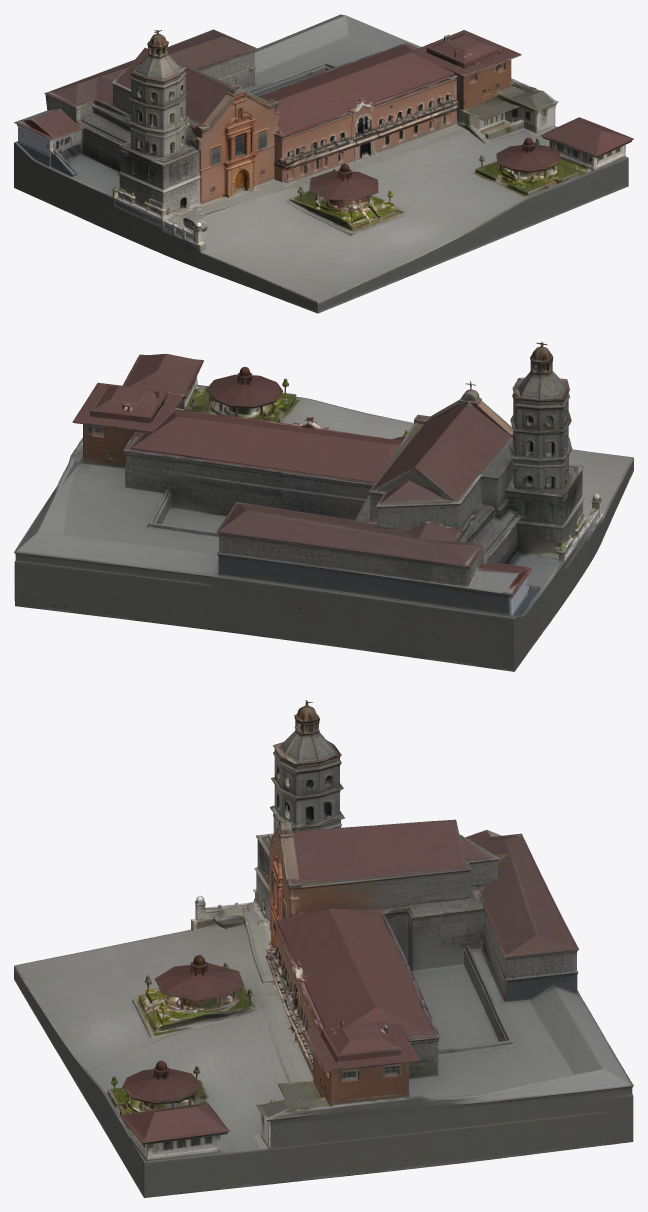
File: church.glb
3 views of the same model, one above another, from view 1: azimuth 30°, elevation 25°; view 2: azimuth 150°, elevation 25°; view 3: azimuth 270°, elevation 25° (orthographic). The views are drawn at different scales.
Bounding box in the file's own units: 0.9839 × 0.4144 × 0.9144.
1 material, 1 textured.
